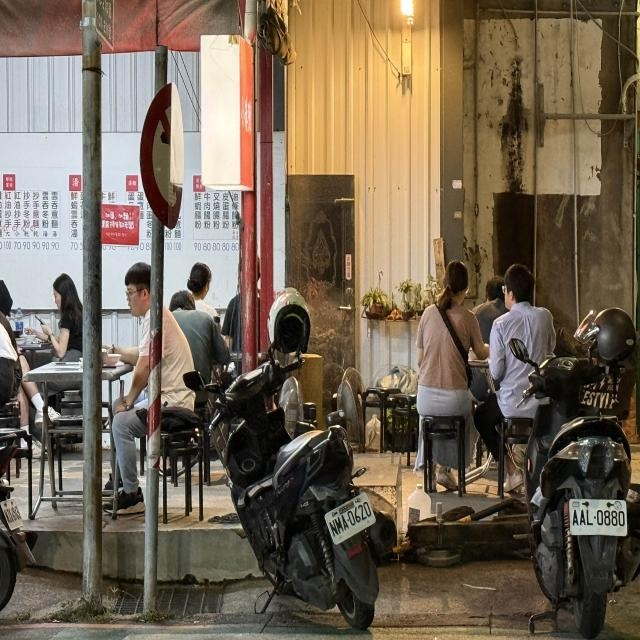Sin_Casco_Mascarrilla: (123, 262, 151, 318), (505, 264, 535, 305), (442, 260, 470, 301), (50, 272, 76, 309), (187, 262, 212, 299)
Sin_Chaleco: (421, 303, 471, 391)
